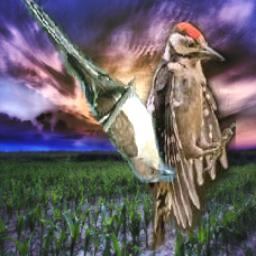Cuckoo: (18, 0, 177, 183)
Woodpecker: (141, 23, 236, 252)
